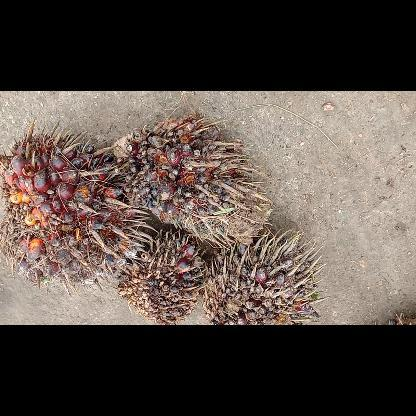TBS abnormal: (112, 117, 264, 245), (206, 230, 320, 324), (119, 228, 206, 324)
TBS masak: (0, 131, 147, 284)
